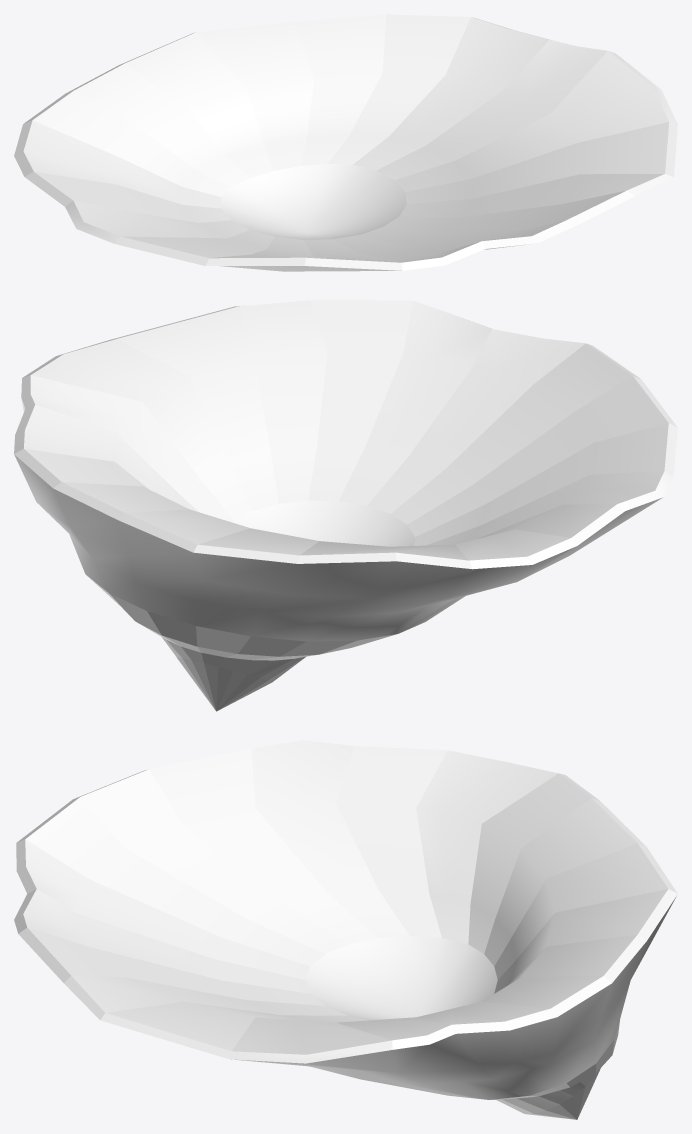
The model's file is shelf_coral_up.fbx.
The picture shows the model from 3 angles, top to bottom: view 1: azimuth 30°, elevation 25°; view 2: azimuth 150°, elevation 25°; view 3: azimuth 270°, elevation 25°; orthographic projection. The views are drawn at different scales.
Visible parts, largest first — view 1: pCylinder1; view 2: pCylinder1; view 3: pCylinder1.
Part boxes in pixels (left/top/right/bottom): pCylinder1: left=14, top=14, right=677, bottom=271; pCylinder1: left=14, top=300, right=677, bottom=711; pCylinder1: left=14, top=740, right=677, bottom=1119.
Bounding box in the file's own units: 7.21 × 2.4 × 6.38.
1 material, 1 textured.
